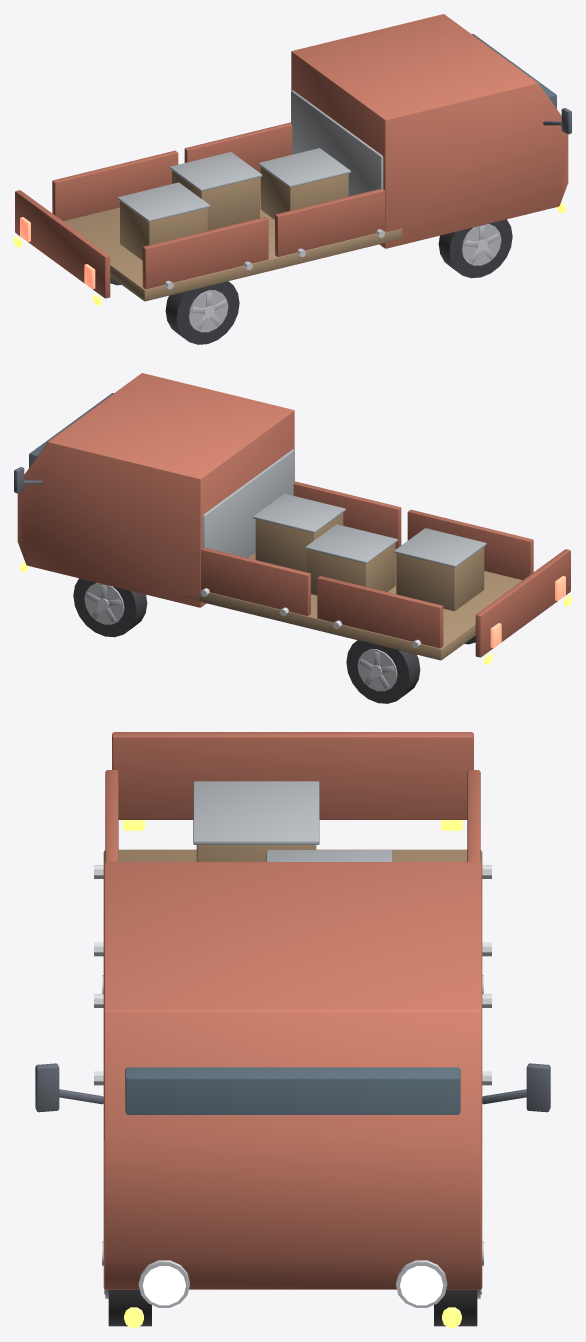
File: th40_pritsche.glb
3 renders of one model, top to bottom at view 1: azimuth 30°, elevation 25°; view 2: azimuth 150°, elevation 25°; view 3: azimuth 270°, elevation 25°, orthographic. The views are drawn at different scales.
Visible parts, largest first — view 1: Fahrerhaus, Cube.002, Cube.003, Cube.004, Cube.005, Cube.008, Cube.007, Cube.006, Cube.009, Cube.013, Cube.011, Cylinder.026 (+6 smaller); view 2: Fahrerhaus, Cube.002, Cube.005, Cube.006, Cube.008, Cube.007, Cube.009, Cube.003, Cube.004, Cube.011, Cube.013, Cylinder.032 (+6 smaller); view 3: Fahrerhaus, Cube.007, Cube.001, Cube.010, Cube.002, Cube.012, Cube.009, Cylinder.008, Cylinder.011, Cube.005, Cube.003, Cylinder.014 (+3 smaller).
Part boxes in pixels (bbox=[...]): Fahrerhaus: bbox=[291, 14, 568, 248]; Cube.002: bbox=[63, 177, 402, 301]; Cube.003: bbox=[142, 217, 268, 289]; Cube.004: bbox=[275, 189, 384, 256]; Cube.005: bbox=[52, 150, 178, 221]; Cube.008: bbox=[291, 90, 383, 196]; Cube.007: bbox=[15, 190, 110, 298]; Cube.006: bbox=[184, 122, 292, 172]; Cube.009: bbox=[120, 201, 207, 260]; Cube.013: bbox=[260, 167, 348, 219]; Cube.011: bbox=[172, 170, 259, 230]; Cylinder.026: bbox=[165, 281, 239, 344]; Fahrerhaus: bbox=[17, 373, 294, 607]; Cube.002: bbox=[183, 552, 522, 660]; Cube.005: bbox=[317, 576, 443, 648]; Cube.006: bbox=[201, 548, 310, 615]; Cube.008: bbox=[202, 449, 294, 557]; Cube.007: bbox=[475, 549, 570, 657]; Cube.009: bbox=[396, 547, 484, 611]; Cube.003: bbox=[407, 509, 533, 580]; Cube.004: bbox=[293, 481, 401, 548]; Cube.011: bbox=[307, 543, 395, 595]; Cube.013: bbox=[255, 513, 343, 572]; Cylinder.032: bbox=[346, 640, 420, 703]; Fahrerhaus: bbox=[103, 862, 482, 1289]; Cube.007: bbox=[112, 732, 473, 819]; Cube.001: bbox=[125, 1067, 460, 1114]; Cube.010: bbox=[193, 781, 319, 844]; Cube.002: bbox=[103, 849, 482, 863]; Cube.012: bbox=[266, 850, 392, 861]; Cube.009: bbox=[196, 845, 316, 861]; Cylinder.008: bbox=[142, 1266, 185, 1305]; Cylinder.011: bbox=[400, 1266, 443, 1305]; Cube.005: bbox=[467, 770, 480, 862]; Cube.003: bbox=[105, 770, 118, 862]; Cylinder.014: bbox=[108, 1289, 151, 1326].
Size of the model in its own units: 6.51 by 2.42 by 3.1.
